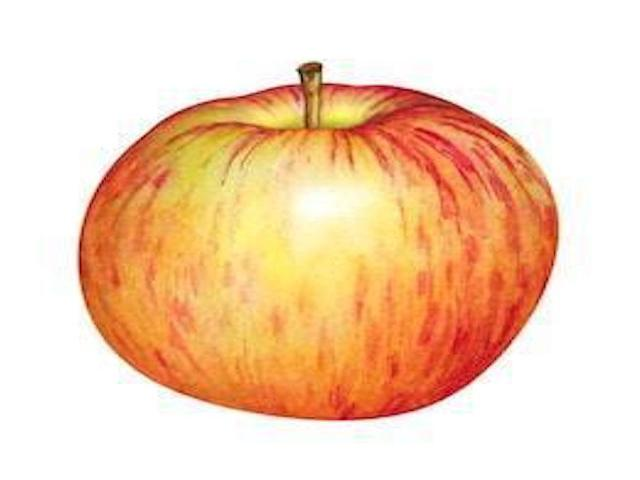apple: (72, 57, 566, 426)
